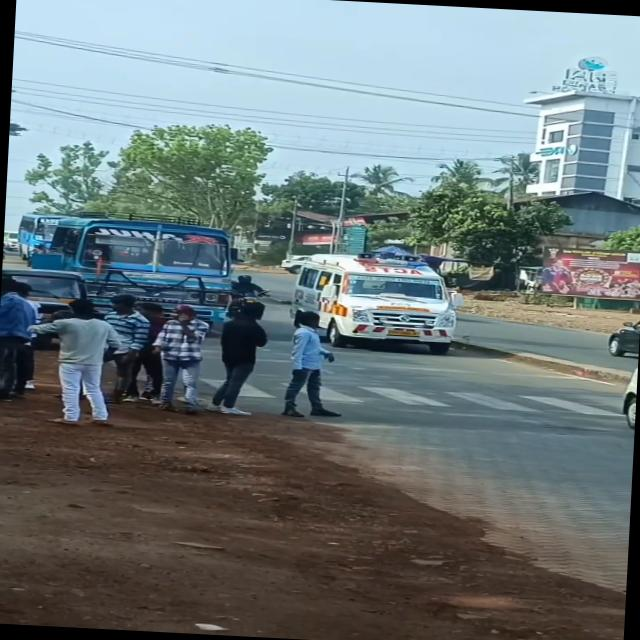ambulance: (285, 247, 463, 356)
